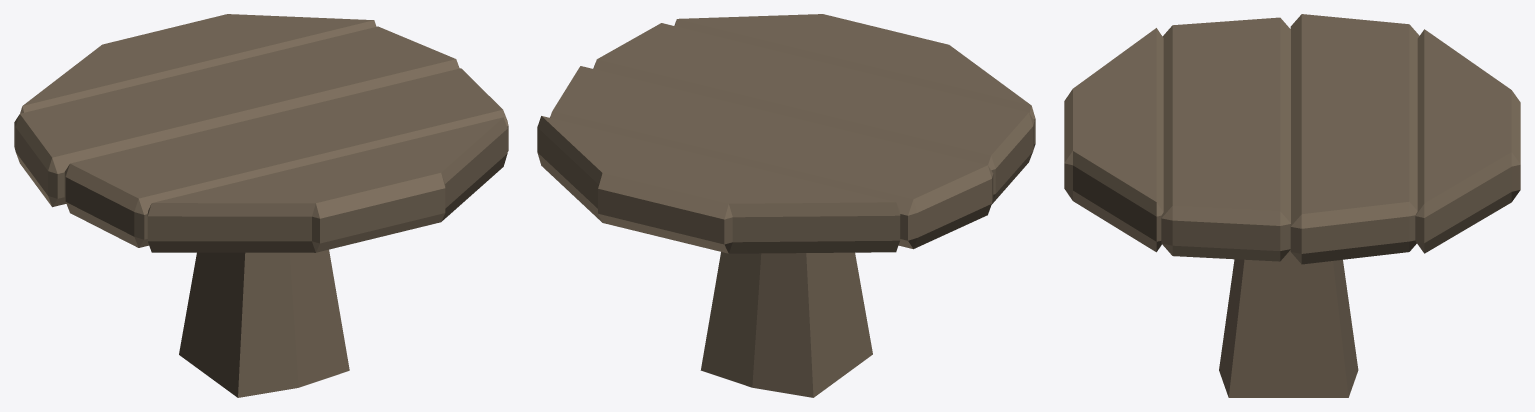
Rendered from Tafel.fbx.
The picture shows the model from 3 angles, left to right: view 1: azimuth 30°, elevation 25°; view 2: azimuth 150°, elevation 25°; view 3: azimuth 270°, elevation 25°; orthographic projection.
Parts seen in each view (by area): view 1: polySurface3242; view 2: polySurface3242; view 3: polySurface3242.
Boxes of the visible parts, x1=… form: polySurface3242: x1=14, y1=14, x2=508, y2=397; polySurface3242: x1=537, y1=14, x2=1035, y2=397; polySurface3242: x1=1064, y1=14, x2=1520, y2=397.
Bounding box in the file's own units: 0.7796 × 0.4571 × 0.7362.
